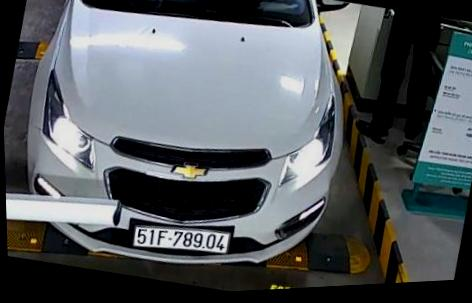License_Plate: (127, 215, 235, 269)
